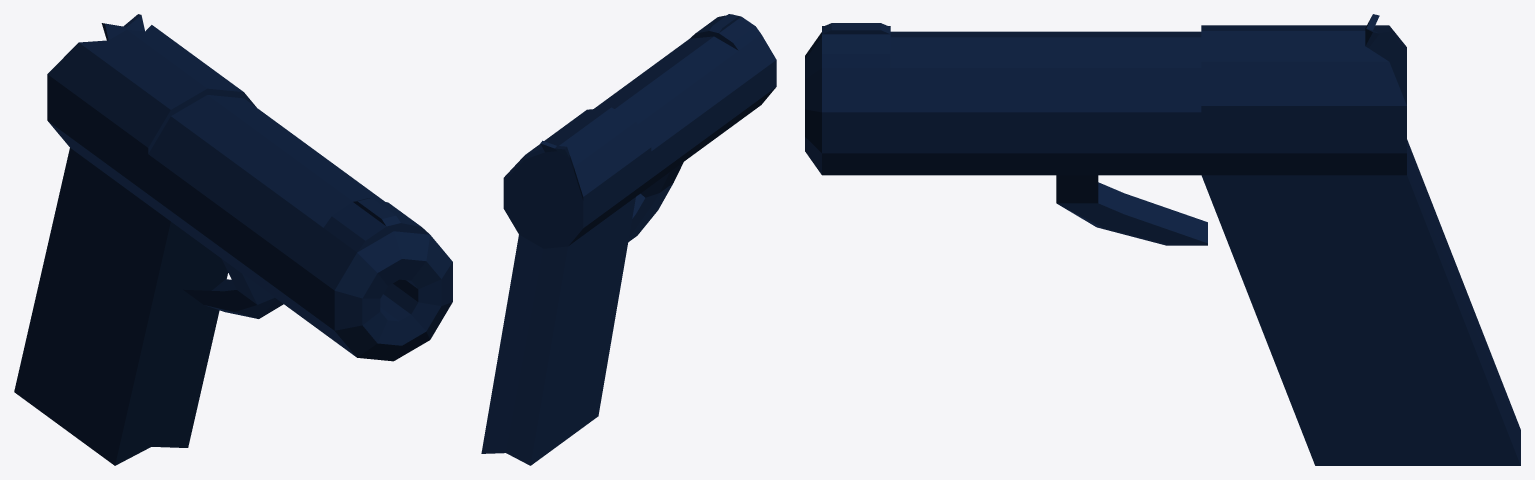
The model's file is pistol1 1.fbx.
3 renders of one model, left to right at view 1: azimuth 30°, elevation 25°; view 2: azimuth 150°, elevation 25°; view 3: azimuth 270°, elevation 25°, orthographic. The views are drawn at different scales.
Visible parts, largest first — view 1: Cylinder; view 2: Cylinder; view 3: Cylinder.
Boxes of the visible parts, x1,y1,x2,y2 form: Cylinder: (14, 14, 452, 465); Cylinder: (481, 14, 776, 465); Cylinder: (805, 14, 1520, 465).
Bounding box in the file's own units: 190 × 641 × 979.
